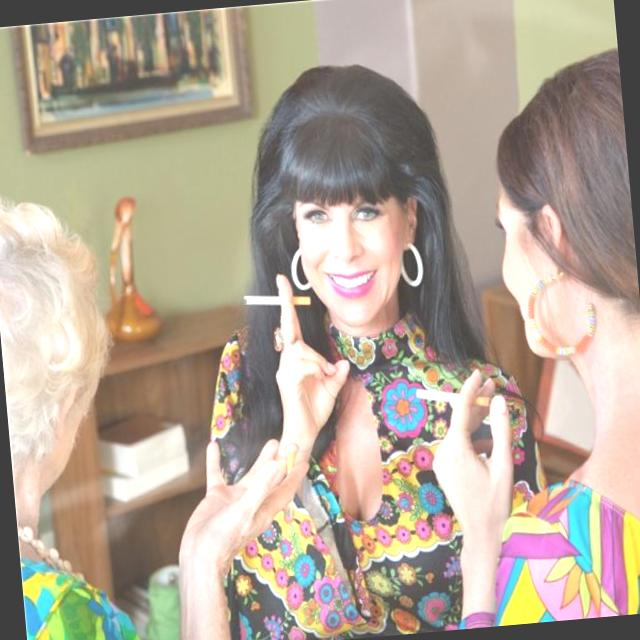cigarette: (408, 370, 499, 420), (236, 280, 310, 314)
